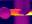Hotspot: (27, 11, 31, 15)
